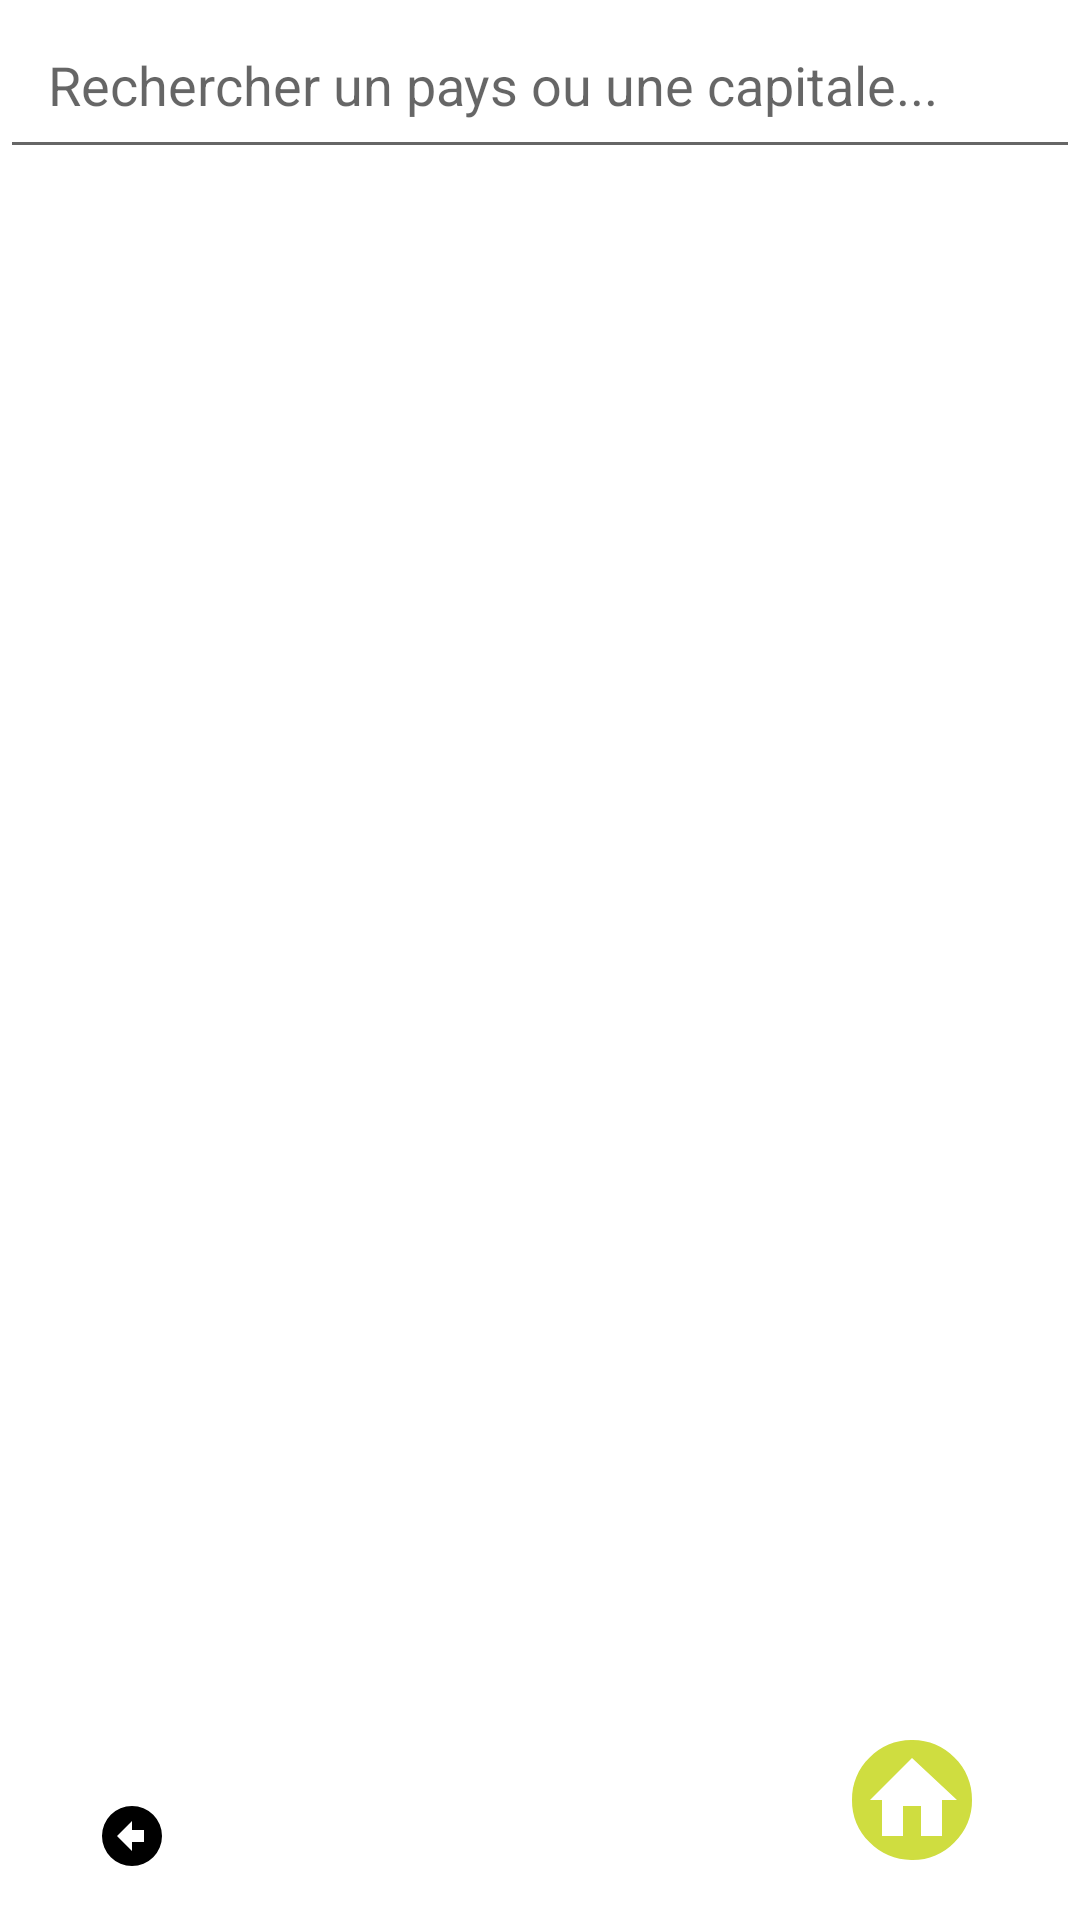

Where to tap for icons on this 1080w x 1920h app screen, as [x,y]:
Home: [912,1800]
Retour: [132,1836]
